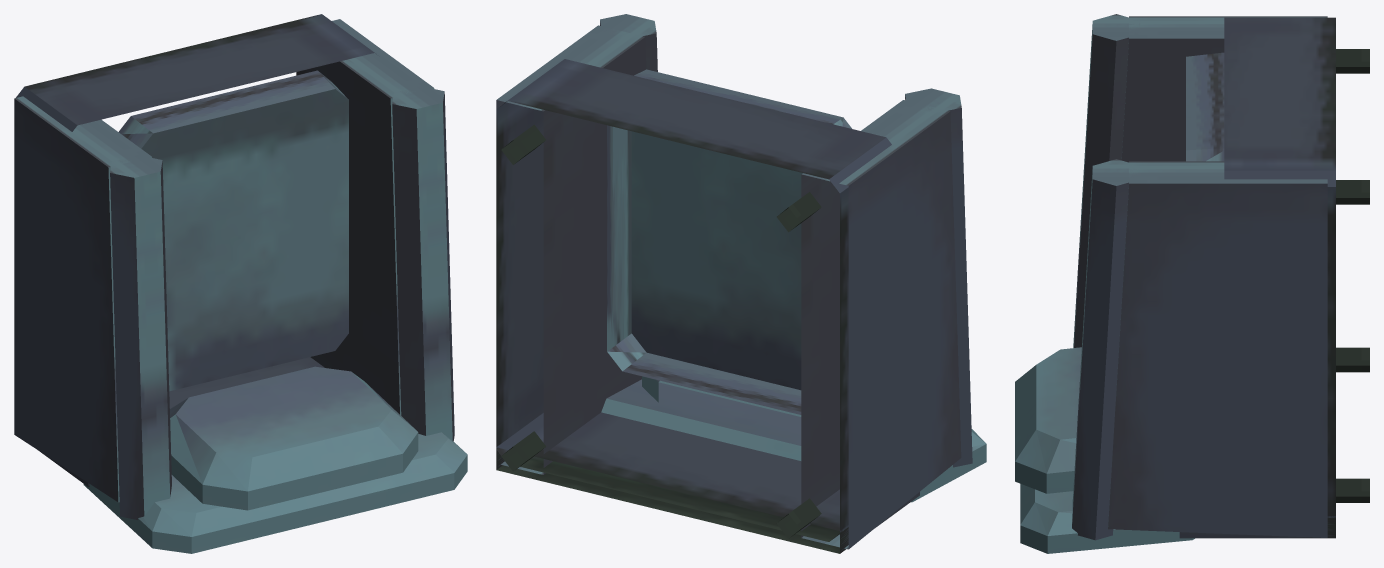
Rendered from pz_chair_seating_indoor_03_blue_comfy_fidelity_r1.obj.
The picture shows the model from 3 angles, left to right: view 1: azimuth 30°, elevation 25°; view 2: azimuth 150°, elevation 25°; view 3: azimuth 270°, elevation 25°; orthographic projection. The views are drawn at different scales.
Parts seen in each view (by area): view 1: pz_chair_seating_indoor_03_blue_comfy__seat_0__seat, pz_chair_seating_indoor_03_blue_comfy__arm_panel_-1__arm, pz_chair_seating_indoor_03_blue_comfy__back_cushion_0__back, pz_chair_seating_indoor_03_blue_comfy__rounded_rail_-1__arm, pz_chair_seating_indoor_03_blue_comfy__arm_panel_1__arm, pz_chair_seating_indoor_03_blue_comfy__rounded_rail_1__arm, pz_chair_seating_indoor_03_blue_comfy__lower_body__body, pz_chair_seating_indoor_03_blue_comfy__rear_shell__back, pz_chair_seating_indoor_03_blue_comfy__rear_body_bridge__body; view 2: pz_chair_seating_indoor_03_blue_comfy__arm_panel_-1__arm, pz_chair_seating_indoor_03_blue_comfy__seat_0__seat, pz_chair_seating_indoor_03_blue_comfy__lower_body__body, pz_chair_seating_indoor_03_blue_comfy__arm_panel_1__arm, pz_chair_seating_indoor_03_blue_comfy__rear_body_bridge__body, pz_chair_seating_indoor_03_blue_comfy__rear_shell__back, pz_chair_seating_indoor_03_blue_comfy__rounded_rail_-1__arm, pz_chair_seating_indoor_03_blue_comfy__rounded_rail_1__arm, pz_chair_seating_indoor_03_blue_comfy__foot_1_1__frame, pz_chair_seating_indoor_03_blue_comfy__foot_-1_-1__frame, pz_chair_seating_indoor_03_blue_comfy__foot_-1_1__frame, pz_chair_seating_indoor_03_blue_comfy__foot_1_-1__frame (+1 smaller); view 3: pz_chair_seating_indoor_03_blue_comfy__arm_panel_1__arm, pz_chair_seating_indoor_03_blue_comfy__lower_body__body, pz_chair_seating_indoor_03_blue_comfy__rounded_rail_1__arm, pz_chair_seating_indoor_03_blue_comfy__arm_panel_-1__arm, pz_chair_seating_indoor_03_blue_comfy__back_cushion_0__back, pz_chair_seating_indoor_03_blue_comfy__rounded_rail_-1__arm, pz_chair_seating_indoor_03_blue_comfy__rear_shell__back, pz_chair_seating_indoor_03_blue_comfy__seat_0__seat, pz_chair_seating_indoor_03_blue_comfy__foot_-1_-1__frame, pz_chair_seating_indoor_03_blue_comfy__foot_-1_1__frame, pz_chair_seating_indoor_03_blue_comfy__foot_1_-1__frame, pz_chair_seating_indoor_03_blue_comfy__foot_1_1__frame (+1 smaller).
Boxes of the visible parts, x1,y1,x2,y2 form: pz_chair_seating_indoor_03_blue_comfy__seat_0__seat: [119, 70, 348, 391]; pz_chair_seating_indoor_03_blue_comfy__arm_panel_-1__arm: [14, 96, 151, 502]; pz_chair_seating_indoor_03_blue_comfy__back_cushion_0__back: [170, 366, 418, 510]; pz_chair_seating_indoor_03_blue_comfy__rounded_rail_-1__arm: [110, 155, 171, 519]; pz_chair_seating_indoor_03_blue_comfy__arm_panel_1__arm: [296, 19, 434, 415]; pz_chair_seating_indoor_03_blue_comfy__rounded_rail_1__arm: [392, 87, 454, 441]; pz_chair_seating_indoor_03_blue_comfy__lower_body__body: [16, 14, 376, 131]; pz_chair_seating_indoor_03_blue_comfy__rear_shell__back: [83, 432, 467, 553]; pz_chair_seating_indoor_03_blue_comfy__rear_body_bridge__body: [40, 357, 324, 486]; pz_chair_seating_indoor_03_blue_comfy__arm_panel_-1__arm: [801, 100, 961, 549]; pz_chair_seating_indoor_03_blue_comfy__seat_0__seat: [607, 69, 851, 414]; pz_chair_seating_indoor_03_blue_comfy__lower_body__body: [496, 59, 891, 541]; pz_chair_seating_indoor_03_blue_comfy__arm_panel_1__arm: [496, 25, 646, 474]; pz_chair_seating_indoor_03_blue_comfy__rear_body_bridge__body: [496, 412, 919, 553]; pz_chair_seating_indoor_03_blue_comfy__rear_shell__back: [601, 379, 986, 502]; pz_chair_seating_indoor_03_blue_comfy__rounded_rail_-1__arm: [905, 88, 972, 467]; pz_chair_seating_indoor_03_blue_comfy__rounded_rail_1__arm: [600, 14, 657, 71]; pz_chair_seating_indoor_03_blue_comfy__foot_1_1__frame: [501, 124, 545, 164]; pz_chair_seating_indoor_03_blue_comfy__foot_-1_-1__frame: [776, 498, 821, 538]; pz_chair_seating_indoor_03_blue_comfy__foot_-1_1__frame: [777, 192, 821, 232]; pz_chair_seating_indoor_03_blue_comfy__foot_1_-1__frame: [501, 431, 545, 471]; pz_chair_seating_indoor_03_blue_comfy__arm_panel_1__arm: [1108, 161, 1327, 537]; pz_chair_seating_indoor_03_blue_comfy__lower_body__body: [1224, 17, 1335, 518]; pz_chair_seating_indoor_03_blue_comfy__rounded_rail_1__arm: [1072, 159, 1139, 540]; pz_chair_seating_indoor_03_blue_comfy__arm_panel_-1__arm: [1121, 16, 1327, 162]; pz_chair_seating_indoor_03_blue_comfy__back_cushion_0__back: [1015, 347, 1081, 493]; pz_chair_seating_indoor_03_blue_comfy__rounded_rail_-1__arm: [1073, 14, 1140, 347]; pz_chair_seating_indoor_03_blue_comfy__rear_shell__back: [1020, 484, 1194, 553]; pz_chair_seating_indoor_03_blue_comfy__seat_0__seat: [1186, 52, 1224, 161]; pz_chair_seating_indoor_03_blue_comfy__foot_-1_-1__frame: [1336, 347, 1369, 372]; pz_chair_seating_indoor_03_blue_comfy__foot_-1_1__frame: [1336, 49, 1369, 73]; pz_chair_seating_indoor_03_blue_comfy__foot_1_-1__frame: [1336, 478, 1369, 502]; pz_chair_seating_indoor_03_blue_comfy__foot_1_1__frame: [1336, 180, 1369, 204].
Size of the model in its own units: 0.9232 by 0.954 by 0.8043.
1 material, 1 textured.
